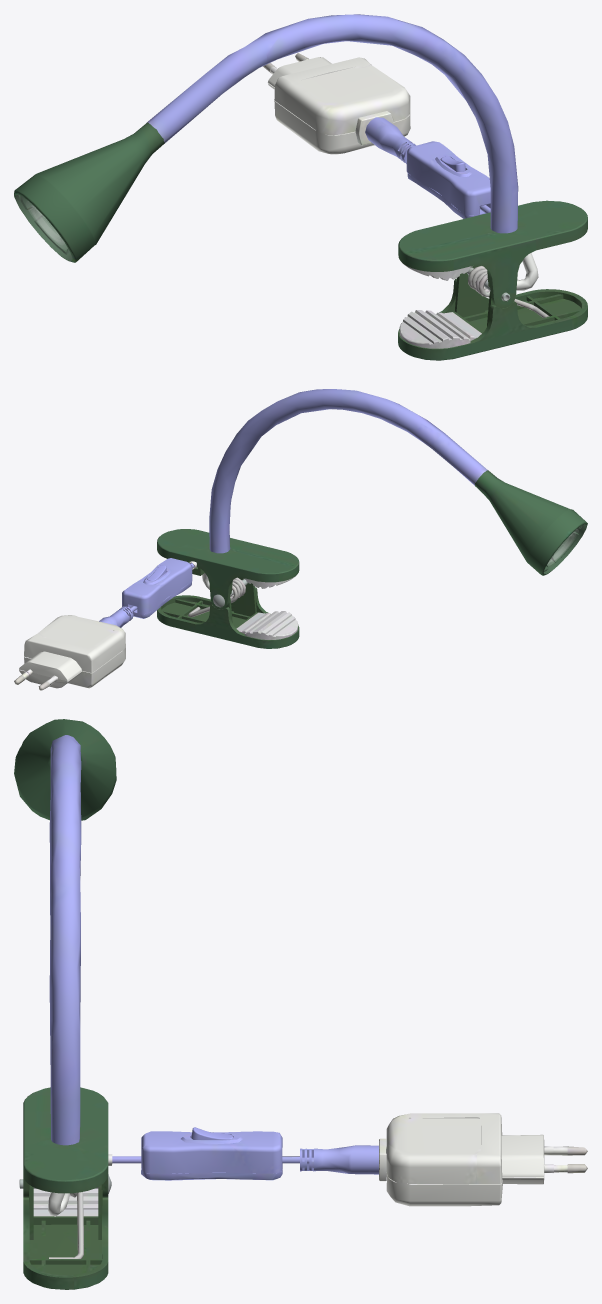
Rendered from 03 - NÄVLINGE LED clamp spotlight - lilacdark green.glb.
3 views of the same model, one above another, from view 1: azimuth 30°, elevation 25°; view 2: azimuth 150°, elevation 25°; view 3: azimuth 270°, elevation 25° (orthographic). The views are drawn at different scales.
Visible parts, largest first — view 1: ASY_LPT04_90574777_S01_NV01, ASY_ART_90574777_S01_NV01, ASY_LPT02_90574777_S01_NV01, ASY_LPT01_90574777_S01_NV01; view 2: ASY_LPT04_90574777_S01_NV01, ASY_ART_90574777_S01_NV01, ASY_LPT02_90574777_S01_NV01, ASY_LPT01_90574777_S01_NV01; view 3: ASY_ART_90574777_S01_NV01, ASY_LPT04_90574777_S01_NV01, ASY_LPT02_90574777_S01_NV01, ASY_LPT01_90574777_S01_NV01.
Part boxes in pixels (x1,y1,x2,y2): ASY_LPT04_90574777_S01_NV01: (14,14,518,262); ASY_ART_90574777_S01_NV01: (263,53,538,290); ASY_LPT02_90574777_S01_NV01: (398,265,587,360); ASY_LPT01_90574777_S01_NV01: (398,200,587,308); ASY_LPT04_90574777_S01_NV01: (209,389,587,575); ASY_ART_90574777_S01_NV01: (14,558,209,690); ASY_LPT02_90574777_S01_NV01: (157,577,299,648); ASY_LPT01_90574777_S01_NV01: (157,529,299,609); ASY_ART_90574777_S01_NV01: (48,1113,587,1216); ASY_LPT04_90574777_S01_NV01: (14,719,116,1145); ASY_LPT02_90574777_S01_NV01: (19,1174,111,1289); ASY_LPT01_90574777_S01_NV01: (23,1087,108,1197).
Bounding box in the file's own units: 0.3025 × 0.1837 × 0.2473.
7 materials, 7 textured.
